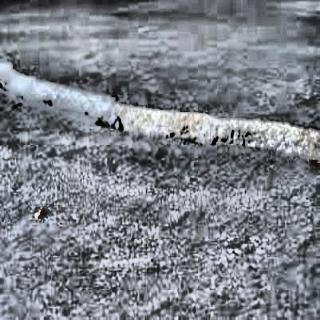pothole: (2, 58, 320, 161)
